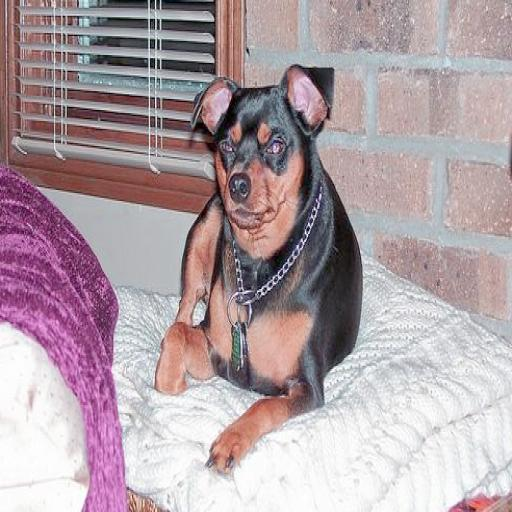dog_face: (199, 72, 322, 237)
